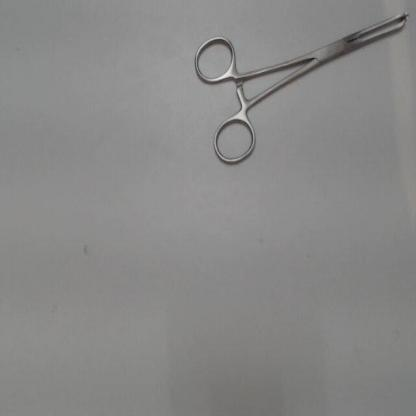Allis Tissue Forceps: (186, 7, 413, 174)
